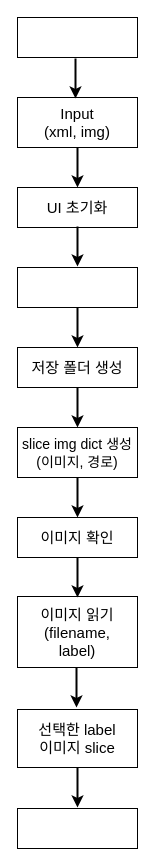
Image size: 155x866. Some labels were removed from this diagram. Each missing label, with the centre of its shape:
Slice Image: (77,37)
UI 세팅: (77,287)
이미지 저장: (77,828)
